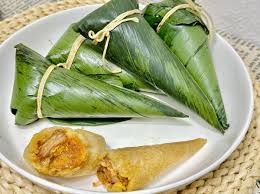zongzi: (74, 0, 223, 132), (10, 43, 187, 124), (143, 0, 228, 128), (46, 24, 162, 93)
